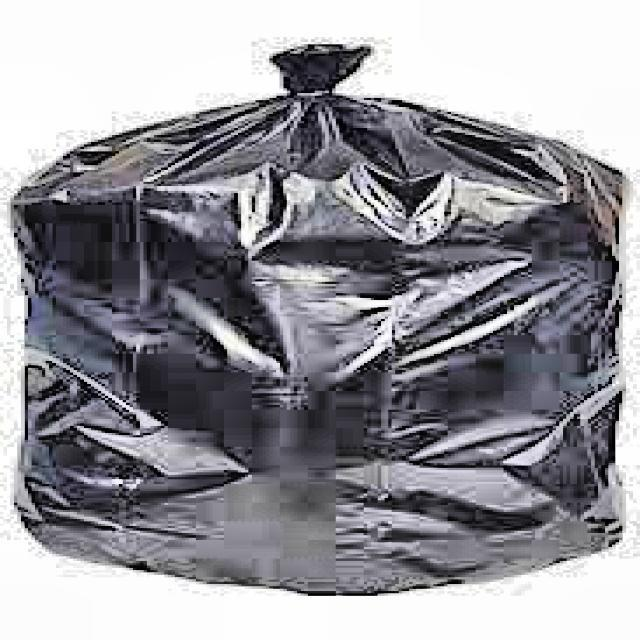Trashbag: (9, 30, 639, 604)
